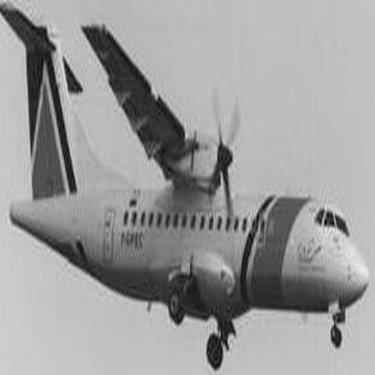airplane: (6, 1, 368, 373)
